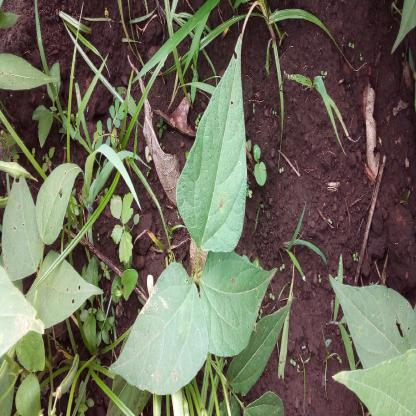Beans_Angular_LeafSpot: (180, 40, 243, 254), (113, 264, 206, 391), (196, 253, 279, 358)
